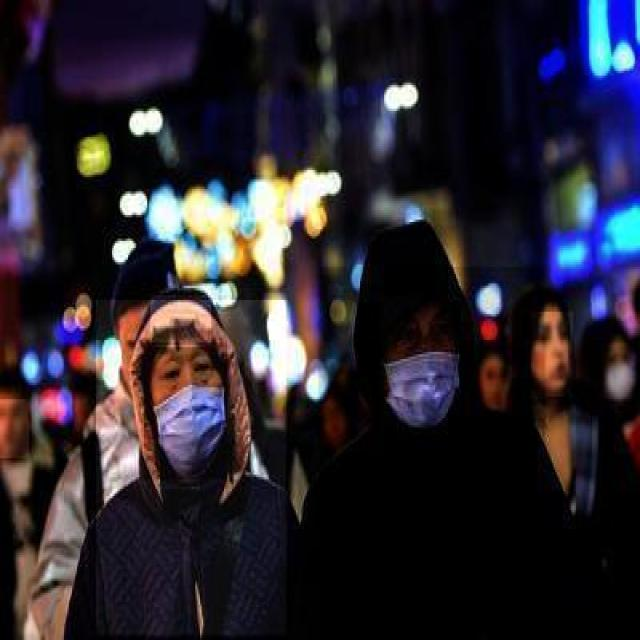face_mask: (144, 342, 227, 480), (381, 295, 462, 428), (603, 342, 637, 402)
face_nomask: (532, 312, 574, 399), (0, 399, 30, 460)
head_nohelmet: (360, 215, 458, 321), (150, 295, 212, 347), (587, 312, 632, 359), (0, 364, 34, 396), (533, 283, 560, 314)
person: (318, 267, 548, 638), (96, 300, 288, 638)
